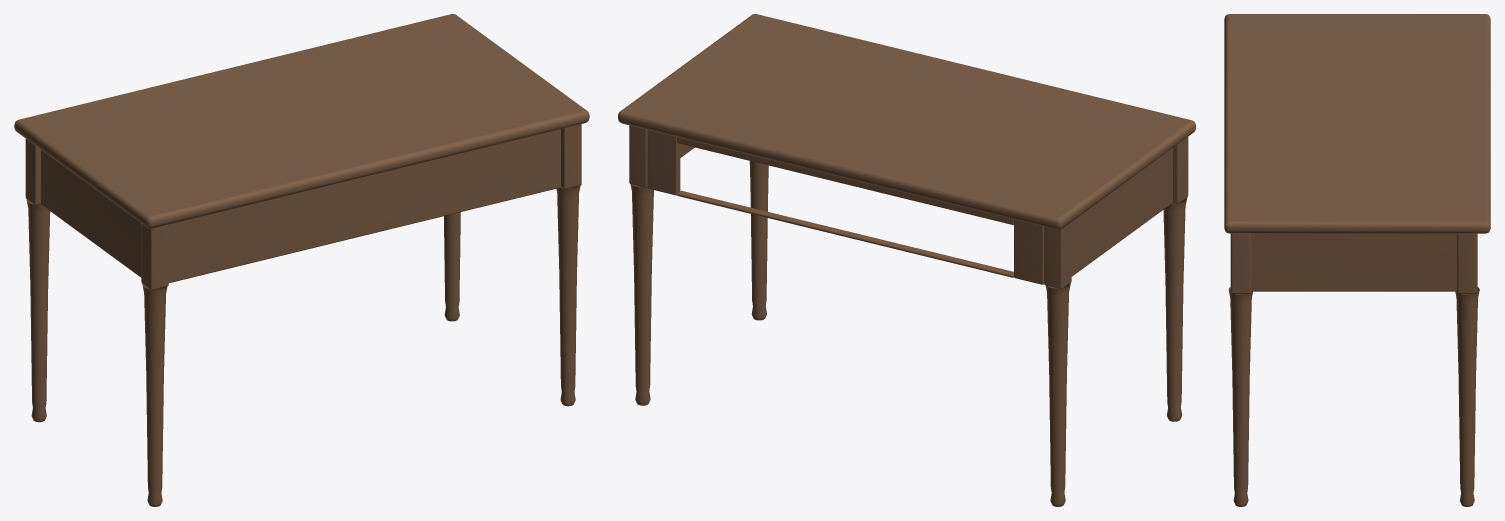
File: lp_writing_desk.glb
The picture shows the model from 3 angles, left to right: view 1: azimuth 30°, elevation 25°; view 2: azimuth 150°, elevation 25°; view 3: azimuth 270°, elevation 25°; orthographic projection. The views are drawn at different scales.
Parts seen in each view (by area): view 1: lp_writing_desk; view 2: lp_writing_desk; view 3: lp_writing_desk.
Boxes of the visible parts, x1=… form: lp_writing_desk: x1=14, y1=14, x2=589, y2=506; lp_writing_desk: x1=618, y1=14, x2=1195, y2=506; lp_writing_desk: x1=1224, y1=14, x2=1490, y2=506.
Size of the model in its own units: 1.2 by 0.765 by 0.64.
